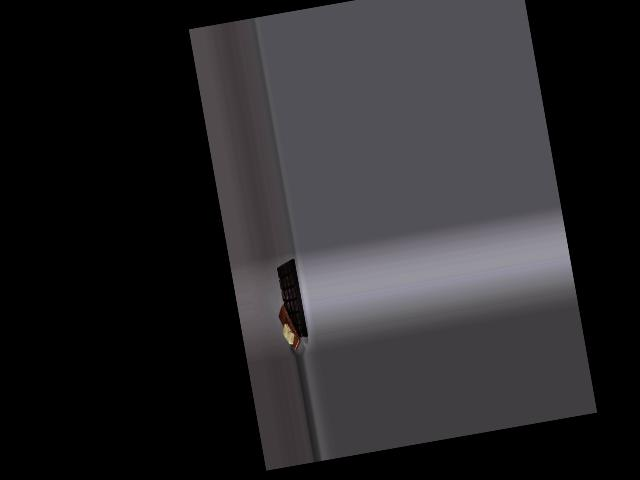chocolate: (272, 258, 311, 345)
